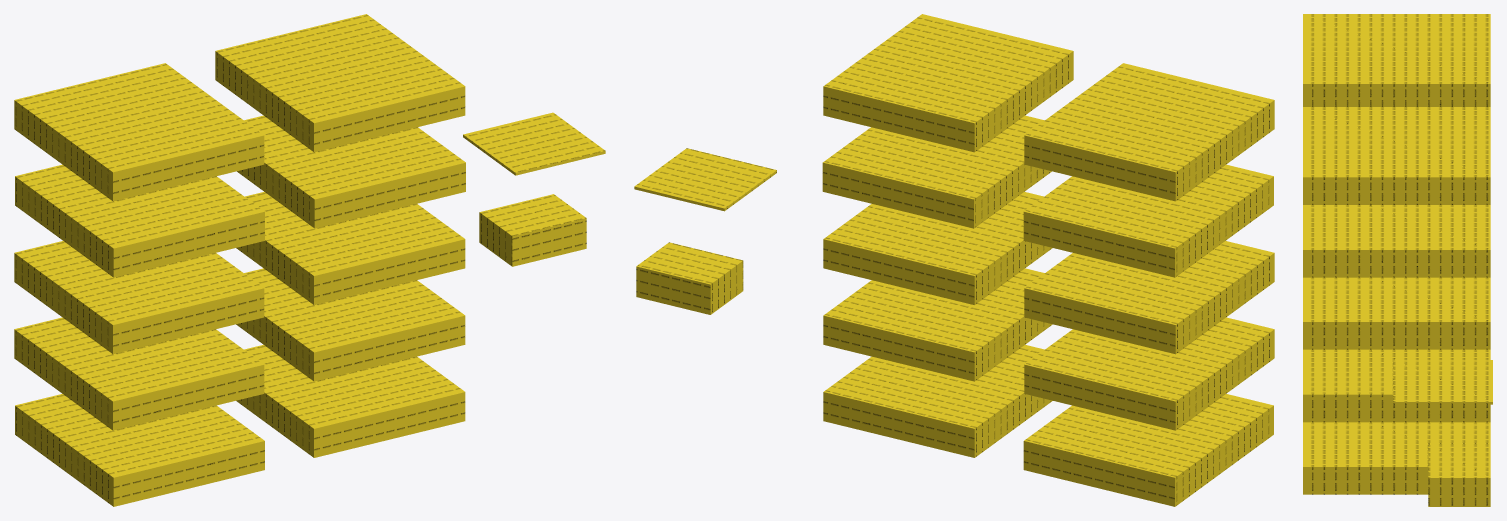
Rendered from basement_collision.vmf.obj.
3 views of the same model, side by side, from view 1: azimuth 30°, elevation 25°; view 2: azimuth 150°, elevation 25°; view 3: azimuth 270°, elevation 25° (orthographic). The views are drawn at different scales.
Parts seen in each view (by area): view 1: 13175, 13169, 13173, 13170, 13174, 13172, 13164, 13166, 13167, 13168, 13163, 13196; view 2: 13169, 13175, 13173, 13170, 13172, 13174, 13168, 13164, 13166, 13167, 13163, 13196; view 3: 13169, 13175, 13167, 13168, 13166, 13164, 13196, 13163.
Boxes of the visible parts, left/top/right/bottom form: 13175: left=14, top=63, right=264, bottom=201; 13169: left=215, top=14, right=465, bottom=152; 13173: left=14, top=241, right=264, bottom=354; 13170: left=14, top=317, right=264, bottom=430; 13174: left=15, top=164, right=264, bottom=277; 13172: left=15, top=394, right=264, bottom=506; 13164: left=236, top=268, right=465, bottom=381; 13166: left=236, top=345, right=465, bottom=457; 13167: left=236, top=192, right=465, bottom=305; 13168: left=237, top=115, right=465, bottom=228; 13163: left=479, top=194, right=586, bottom=266; 13196: left=463, top=112, right=605, bottom=175; 13169: left=823, top=14, right=1073, bottom=152; 13175: left=1024, top=63, right=1274, bottom=201; 13173: left=1024, top=241, right=1274, bottom=354; 13170: left=1024, top=317, right=1274, bottom=430; 13172: left=1023, top=394, right=1273, bottom=506; 13174: left=1023, top=164, right=1273, bottom=277; 13168: left=822, top=115, right=1051, bottom=228; 13164: left=823, top=268, right=1052, bottom=381; 13166: left=823, top=344, right=1052, bottom=457; 13167: left=823, top=192, right=1052, bottom=304; 13163: left=636, top=242, right=743, bottom=314; 13196: left=634, top=148, right=776, bottom=211; 13169: left=1303, top=107, right=1490, bottom=204; 13175: left=1303, top=14, right=1490, bottom=106; 13167: left=1303, top=277, right=1490, bottom=349; 13168: left=1303, top=205, right=1490, bottom=277; 13166: left=1303, top=422, right=1490, bottom=494; 13164: left=1303, top=349, right=1490, bottom=422; 13196: left=1393, top=360, right=1492, bottom=404; 13163: left=1428, top=443, right=1490, bottom=506.
Size of the model in its own units: 814 by 482 by 261.
Materials: 1 (1 with a texture image).
